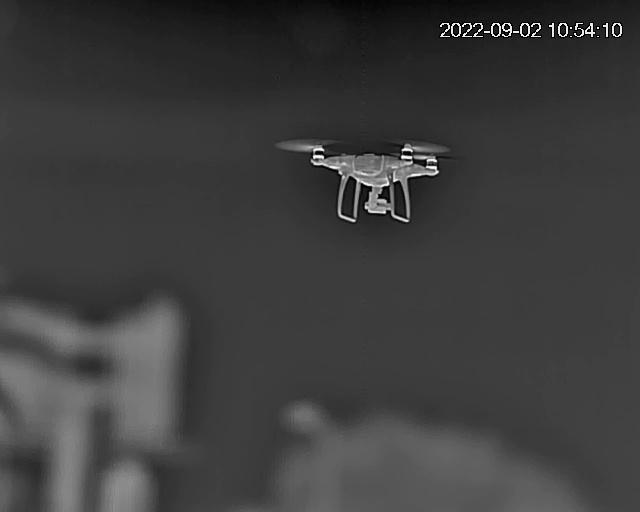DJI-Phantom: (276, 135, 460, 224)
